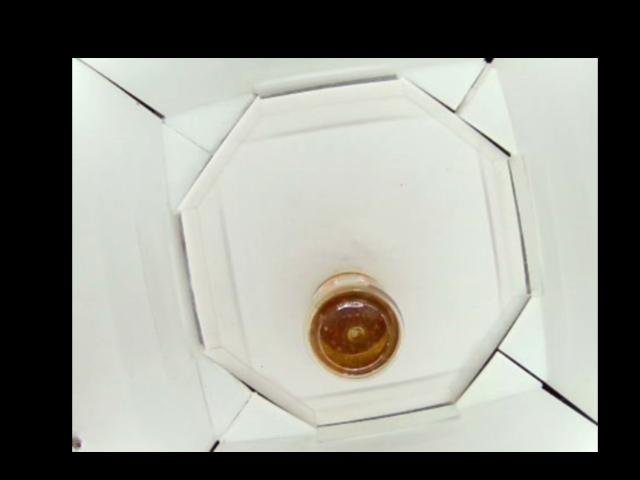Bottle: (307, 271, 403, 381)
